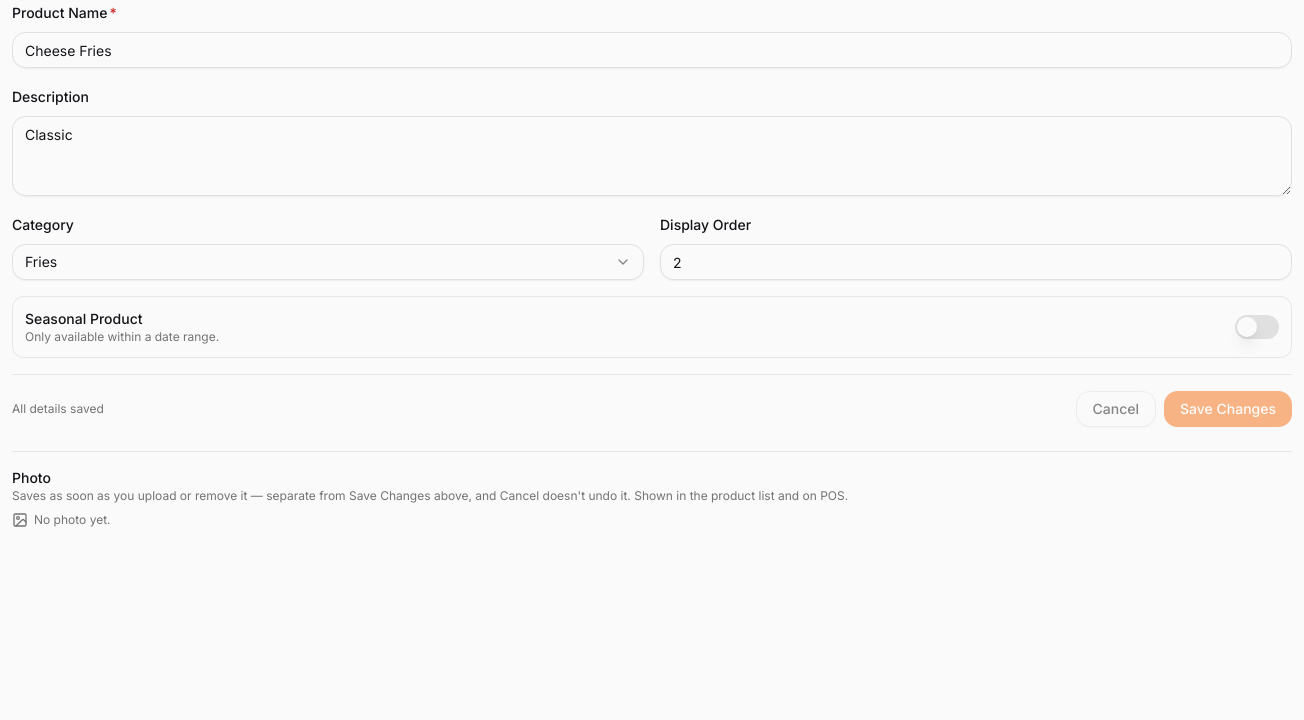
Test case: ProductDetailsForm (POS-PERF-P39) › keeps typed values and explains a version conflict instead of overwriting
This screenshot has width=1304, height=720.
In the field labelled "Product Name*": (652, 50) [12,32,1292,68], type "My Edit"
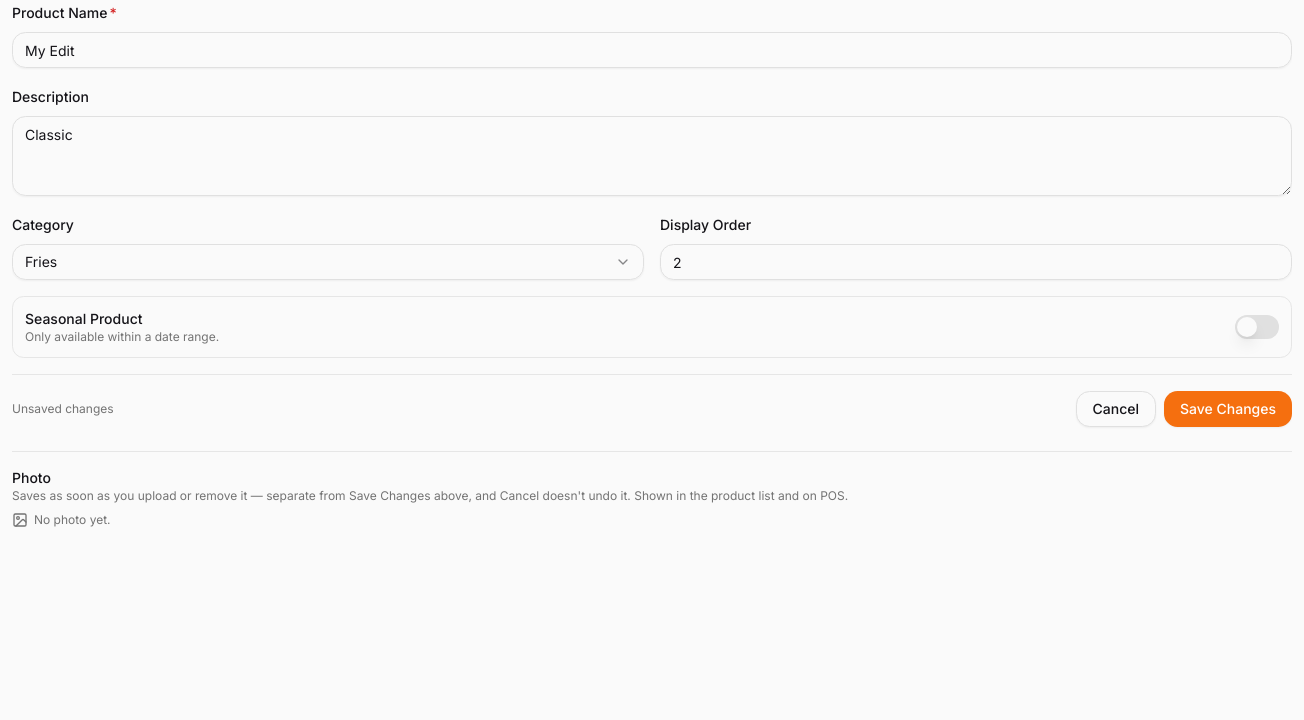
Click the button "Save Changes": (1228, 409) [1164,391,1292,427]
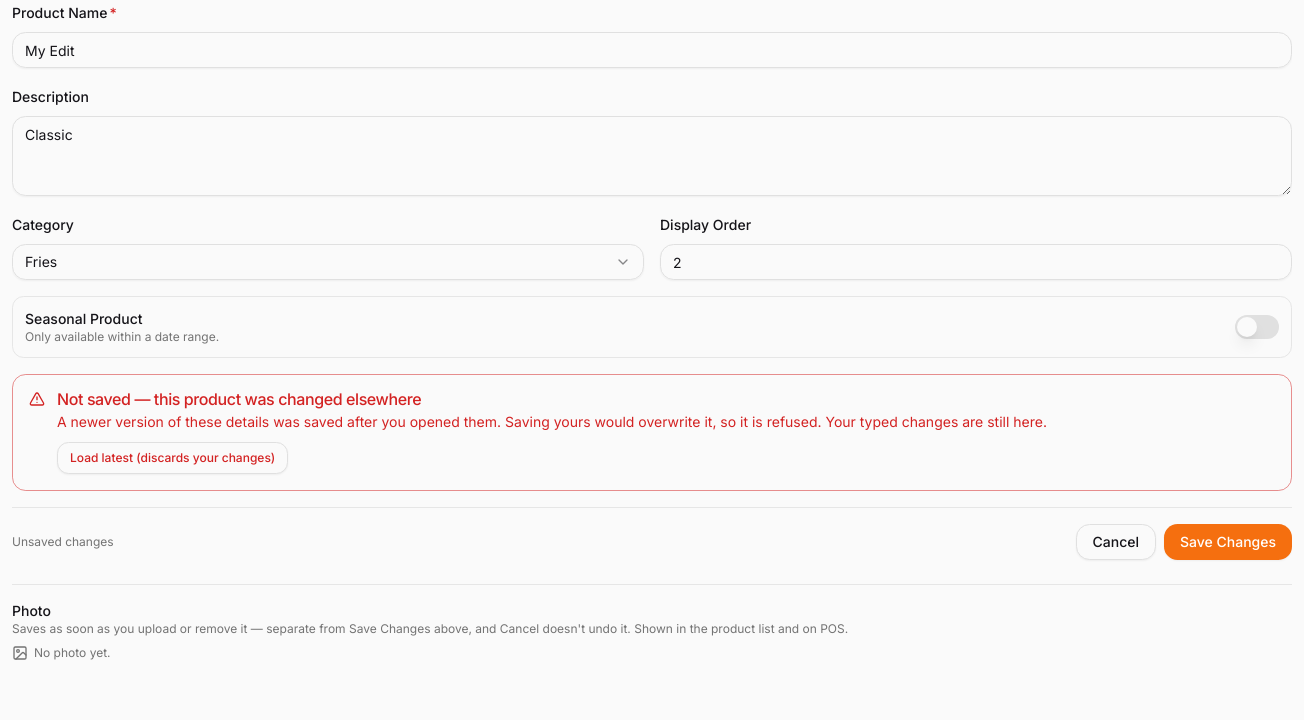
Check: the text "Unsaved changes" is shown, box [12,534,114,550]
Check: the message with test id "product-details-conflict" shows "Not saved — this product was changed elsewhere", box [57,389,421,409]
